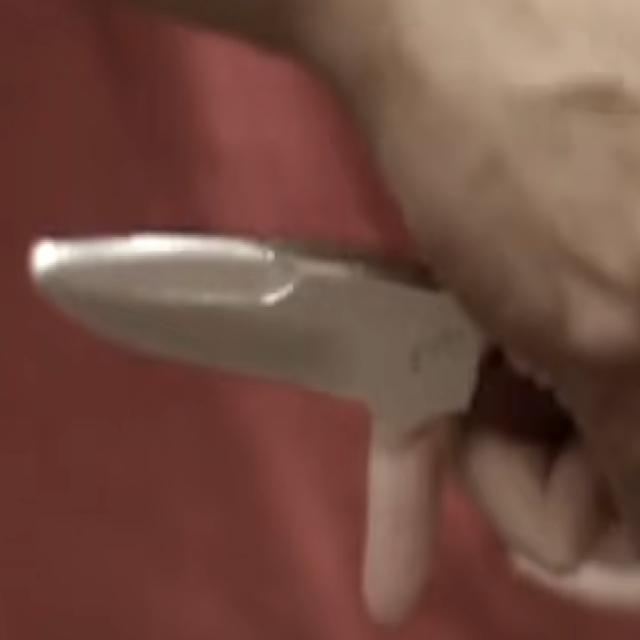knife: (18, 208, 579, 470)
